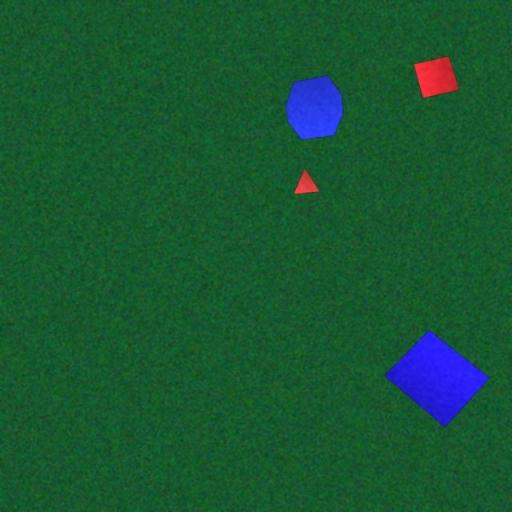BLUE_SQUARE: (384, 330, 490, 428)
RED_SQUARE: (413, 56, 461, 98)
